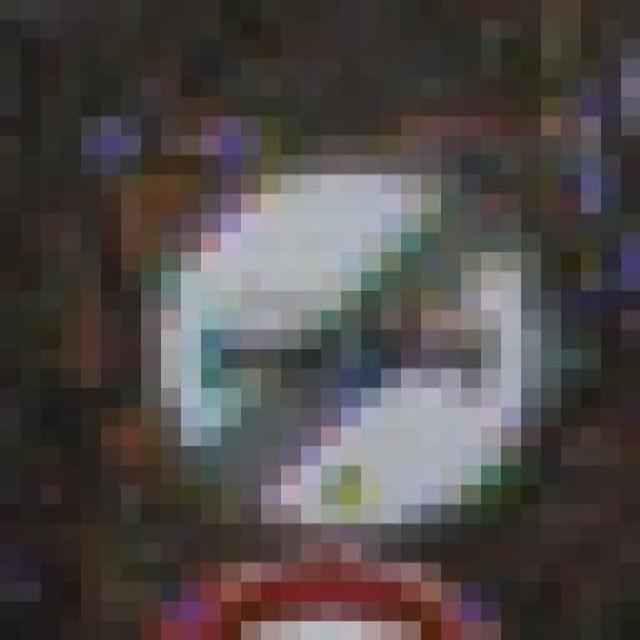No_Over_Taking: (100, 97, 580, 543)
